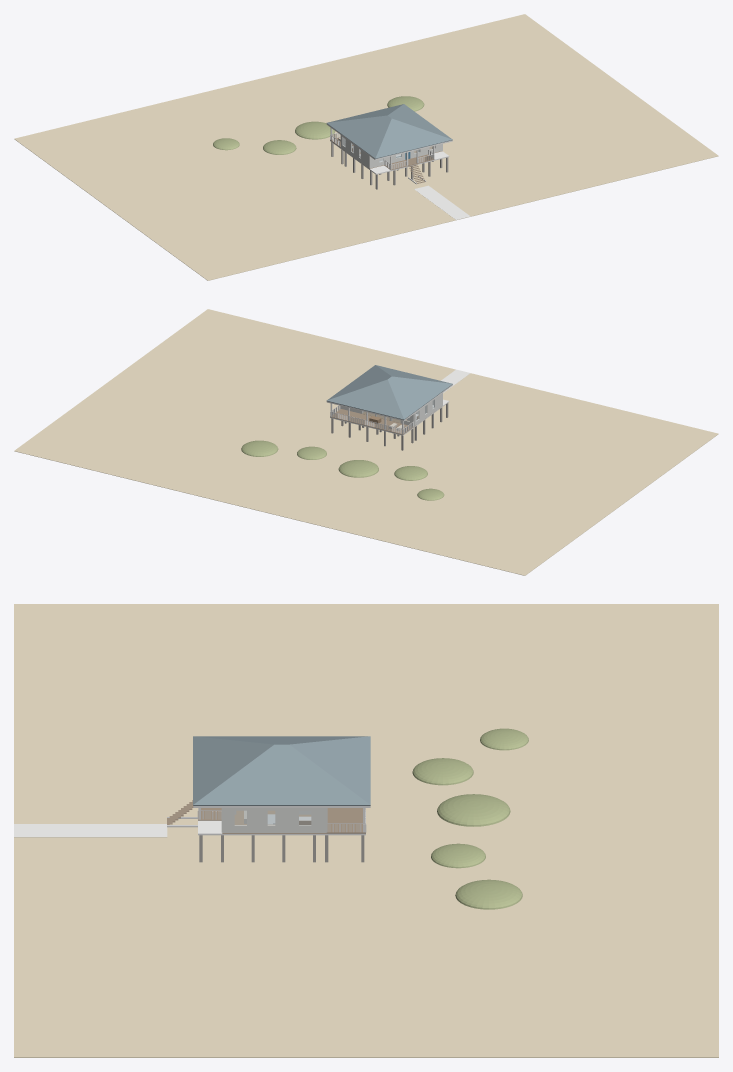
The picture shows the model from 3 angles, top to bottom: view 1: azimuth 30°, elevation 25°; view 2: azimuth 150°, elevation 25°; view 3: azimuth 270°, elevation 25°; orthographic projection. The views are drawn at different scales.
Parts seen in each view (by area): view 1: Sand, Roof_Hip_Metal, Site_Dune_Grass, Structure_Trim_White, Exterior_Siding_White, Driveway, Structure_Piling; view 2: Sand, Roof_Hip_Metal, Site_Dune_Grass, Structure_Trim_White, Floors_Deck_Wood, Structure_Piling, Exterior_Siding_White; view 3: Sand, Roof_Hip_Metal, Site_Dune_Grass, Exterior_Siding_White, Driveway, Structure_Trim_White, Floors_Deck_Wood, Structure_Piling.
Boxes of the visible parts, bbox=[...] form: Sand: bbox=[14, 14, 718, 280]; Roof_Hip_Metal: bbox=[326, 104, 452, 158]; Site_Dune_Grass: bbox=[213, 96, 424, 154]; Structure_Trim_White: bbox=[330, 128, 449, 184]; Exterior_Siding_White: bbox=[340, 135, 442, 168]; Driveway: bbox=[414, 185, 470, 219]; Structure_Piling: bbox=[331, 142, 448, 189]; Sand: bbox=[14, 309, 718, 575]; Roof_Hip_Metal: bbox=[326, 365, 452, 419]; Site_Dune_Grass: bbox=[241, 440, 444, 500]; Structure_Trim_White: bbox=[330, 399, 449, 435]; Floors_Deck_Wood: bbox=[330, 409, 413, 434]; Structure_Piling: bbox=[331, 403, 448, 450]; Exterior_Siding_White: bbox=[341, 393, 442, 426]; Sand: bbox=[14, 604, 718, 1057]; Roof_Hip_Metal: bbox=[193, 736, 370, 805]; Site_Dune_Grass: bbox=[412, 728, 528, 909]; Exterior_Siding_White: bbox=[221, 808, 327, 832]; Driveway: bbox=[14, 824, 167, 837]; Structure_Trim_White: bbox=[167, 808, 366, 835]; Floors_Deck_Wood: bbox=[198, 808, 365, 833]; Structure_Piling: bbox=[199, 835, 364, 862].
Size of what is drawn, in the model's own units: 107 by 10.26 by 70.1.
